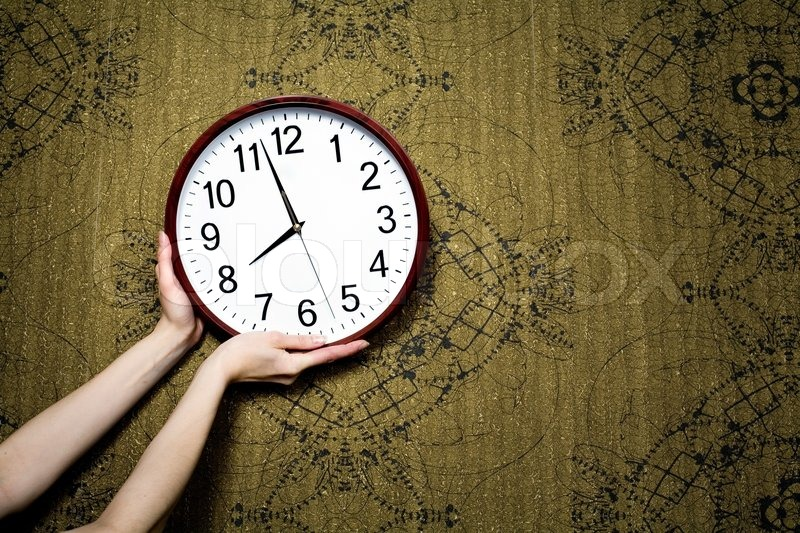clock: (177, 103, 427, 344)
